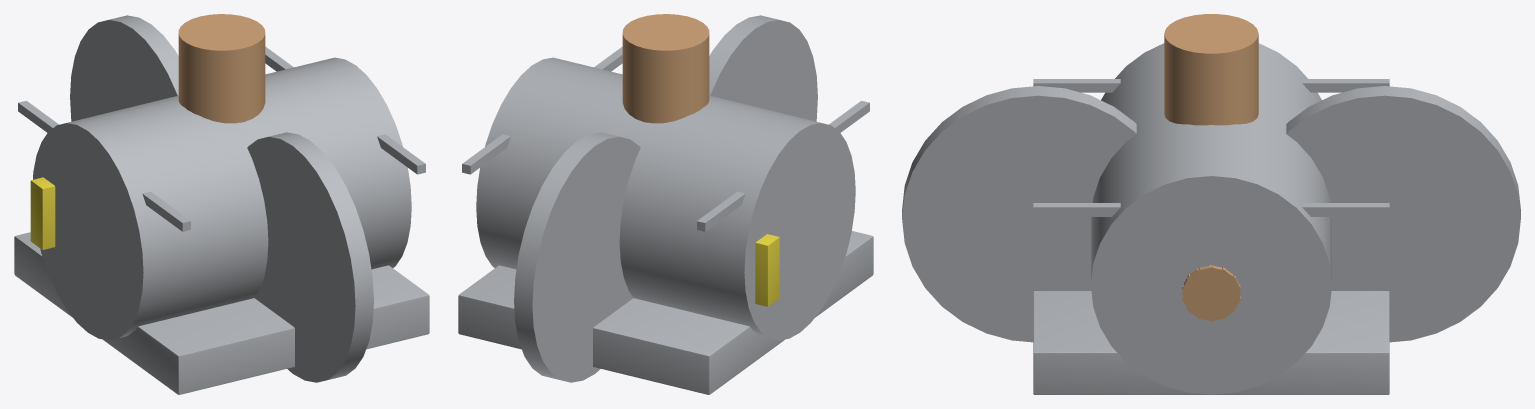
The model's file is PR_turbine.fbx.
The picture shows the model from 3 angles, left to right: view 1: azimuth 30°, elevation 25°; view 2: azimuth 150°, elevation 25°; view 3: azimuth 270°, elevation 25°; orthographic projection. The views are drawn at different scales.
Parts seen in each view (by area): view 1: PR_turbine; view 2: PR_turbine; view 3: PR_turbine.
Part boxes in pixels (x1,y1,x2,y2): PR_turbine: (14, 14, 429, 394); PR_turbine: (458, 14, 873, 394); PR_turbine: (902, 14, 1520, 394).
Size of the model in its own units: 3.55 by 3.2 by 5.9.
